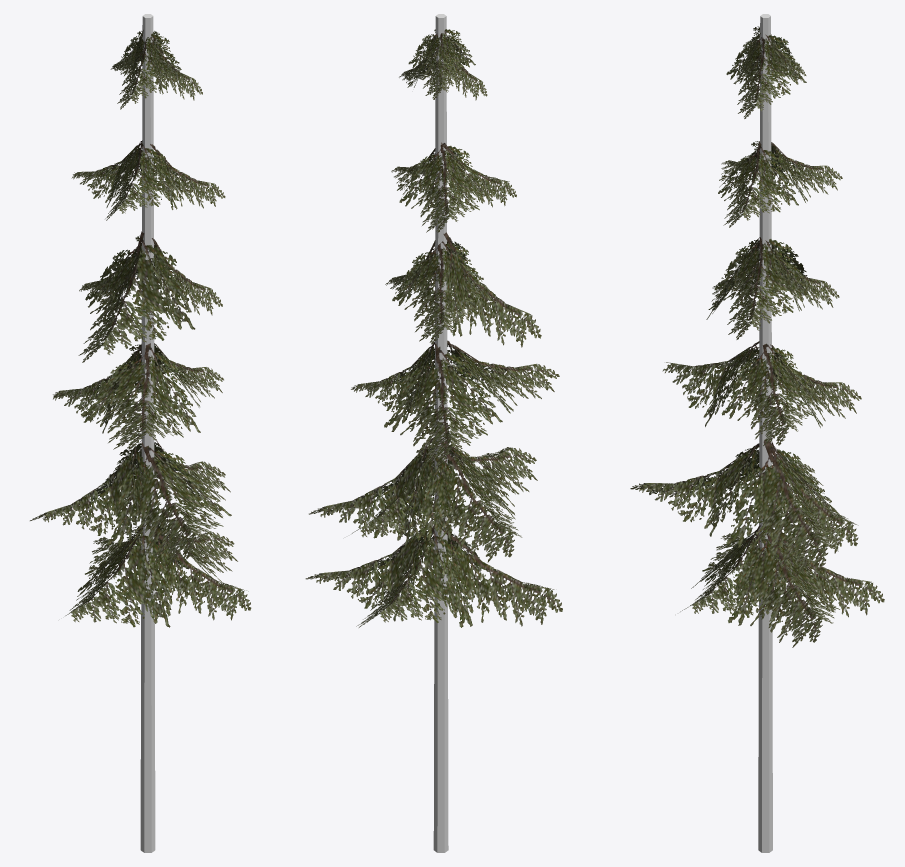
File: Pine_short.fbx
3 renders of one model, left to right at view 1: azimuth 30°, elevation 25°; view 2: azimuth 150°, elevation 25°; view 3: azimuth 270°, elevation 25°, orthographic.
Parts seen in each view (by area): view 1: Tree_Pine_Branch.020, Cylinder; view 2: Tree_Pine_Branch.020, Cylinder; view 3: Tree_Pine_Branch.020, Cylinder.
Boxes of the visible parts, x1,y1,x2,y2 form: Tree_Pine_Branch.020: [30, 30, 251, 627]; Cylinder: [140, 14, 155, 852]; Tree_Pine_Branch.020: [305, 29, 562, 627]; Cylinder: [433, 14, 448, 852]; Tree_Pine_Branch.020: [630, 26, 884, 647]; Cylinder: [758, 14, 772, 852].
Bounding box in the file's own units: 506 × 1600 × 478.
